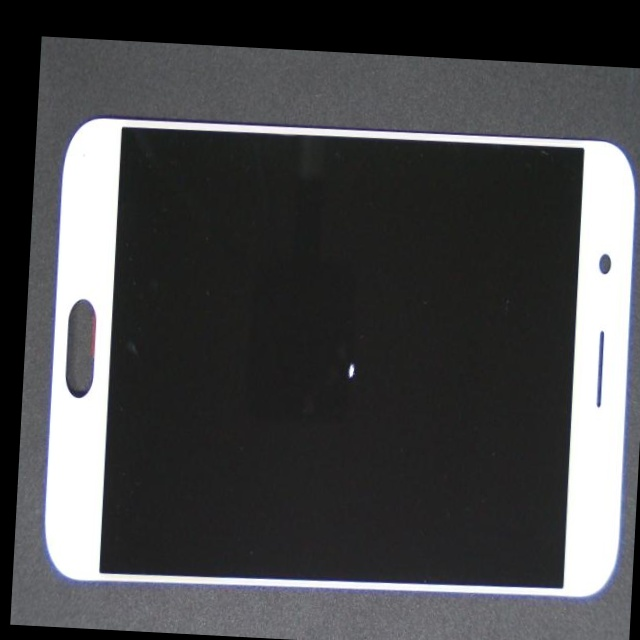stain: (186, 150, 516, 520)
